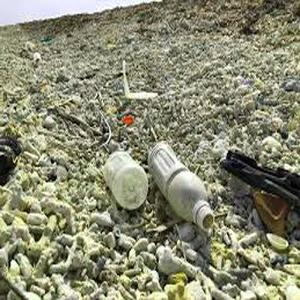Plastic: (148, 142, 214, 230), (99, 150, 148, 211)
